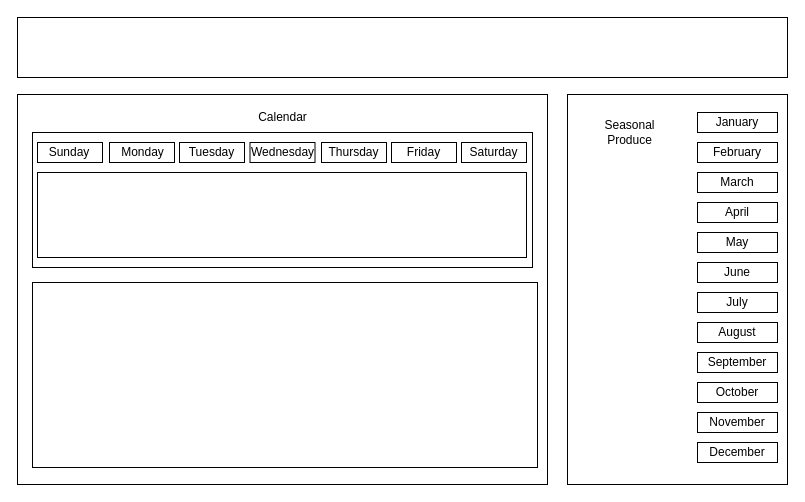
Some shapes in this 805 by 502 pixel diagram are drawn without their labels. The box of each missing label's shape, as (x1, y1, x2, y2) in pixels:
Header: (16, 16, 788, 78)
Location Info: (36, 172, 526, 258)
Stories from the farm: (32, 282, 538, 468)
